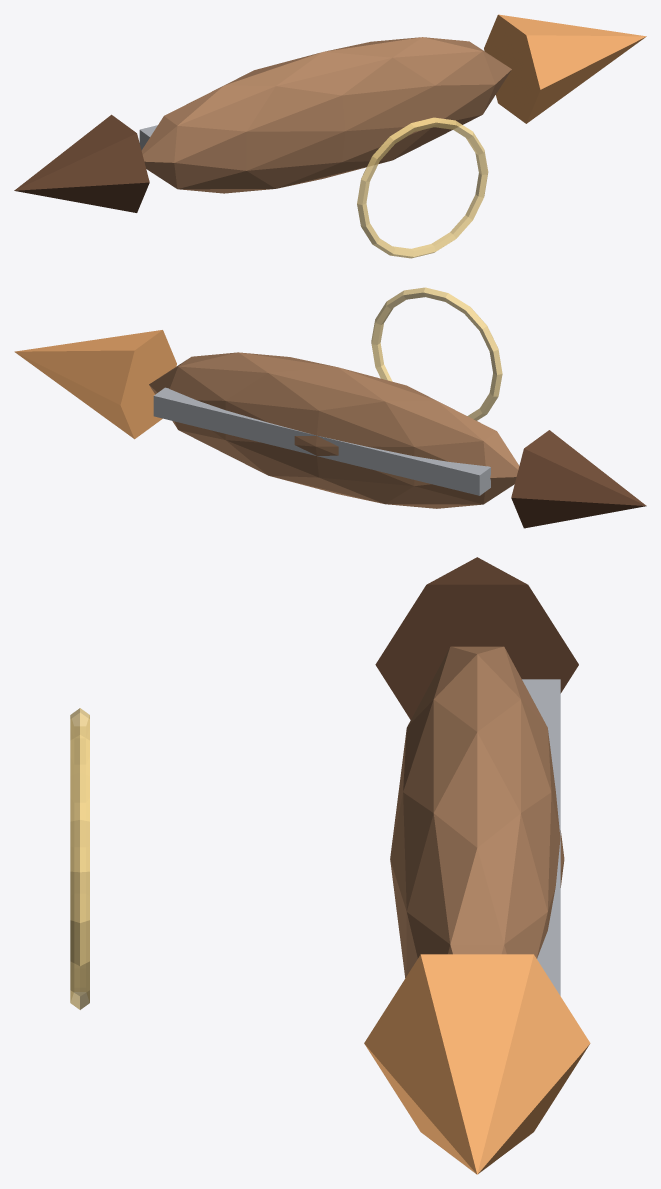
File: 05_skyship_hull.glb
3 renders of one model, top to bottom at view 1: azimuth 30°, elevation 25°; view 2: azimuth 150°, elevation 25°; view 3: azimuth 270°, elevation 25°, orthographic. The views are drawn at different scales.
Visible parts, largest first — view 1: hull_low_poly, bow_upgrade, stern_fin, size_class_ring; view 2: hull_low_poly, bow_upgrade, keel_plate, stern_fin, size_class_ring; view 3: hull_low_poly, bow_upgrade, stern_fin, size_class_ring, keel_plate.
Boxes of the visible parts, bbox=[...] form: hull_low_poly: bbox=[141, 37, 511, 193]; bow_upgrade: bbox=[484, 14, 646, 123]; stern_fin: bbox=[14, 114, 149, 212]; size_class_ring: bbox=[357, 117, 488, 258]; hull_low_poly: bbox=[149, 352, 519, 508]; bow_upgrade: bbox=[14, 330, 176, 439]; keel_plate: bbox=[153, 387, 490, 495]; stern_fin: bbox=[511, 430, 646, 528]; size_class_ring: bbox=[371, 287, 502, 420]; hull_low_poly: bbox=[390, 646, 564, 977]; bow_upgrade: bbox=[364, 954, 590, 1174]; stern_fin: bbox=[375, 557, 578, 719]; size_class_ring: bbox=[70, 708, 89, 1009]; keel_plate: bbox=[522, 679, 560, 995].
Size of the model in its own units: 7.23 by 1.48 by 2.57.
